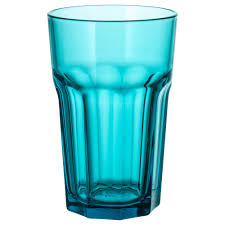glass: (44, 3, 181, 222)
